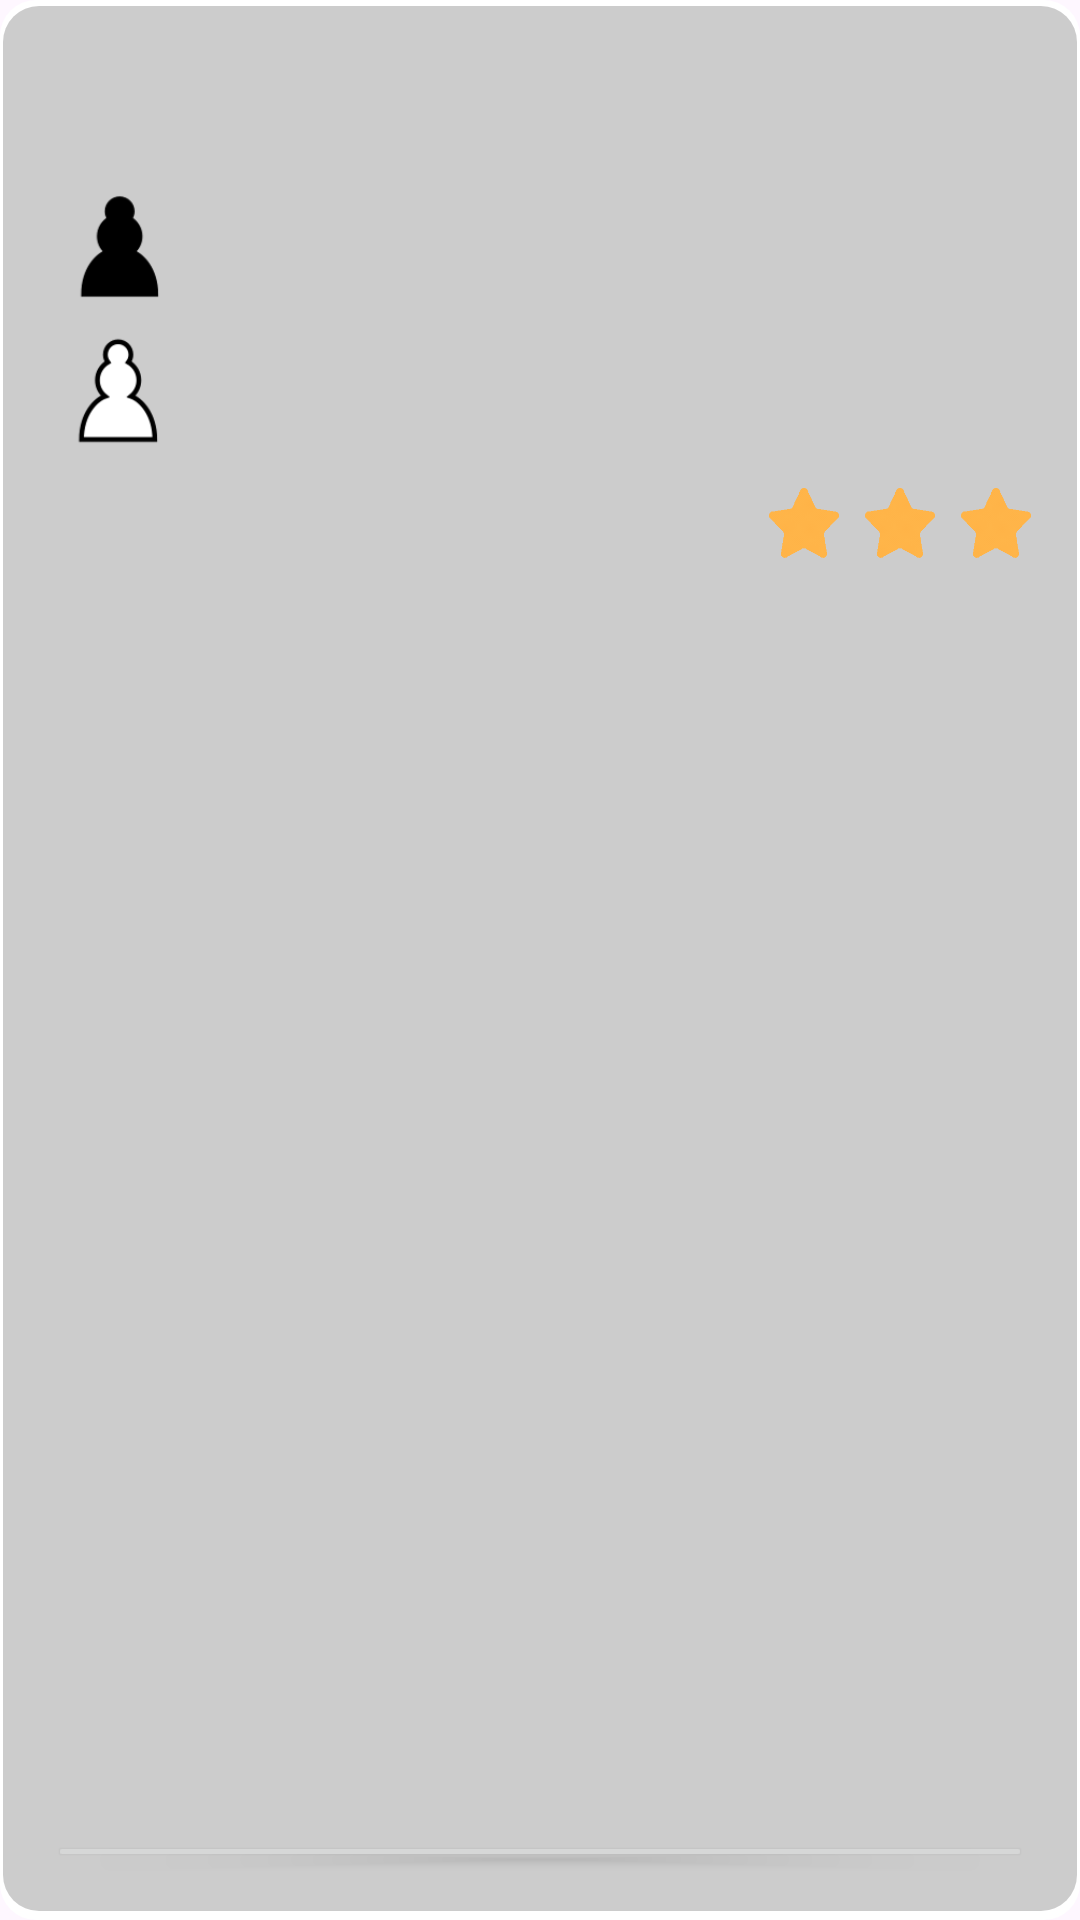

Named icons in this screenshot (1080×1920) and their bounding boxes, (x1, y1, x2, y2):
blackpawn: (80, 196, 159, 297)
star anim: (769, 488, 839, 558), (865, 488, 935, 558), (961, 488, 1031, 558)
whitepawn: (78, 339, 158, 443)
